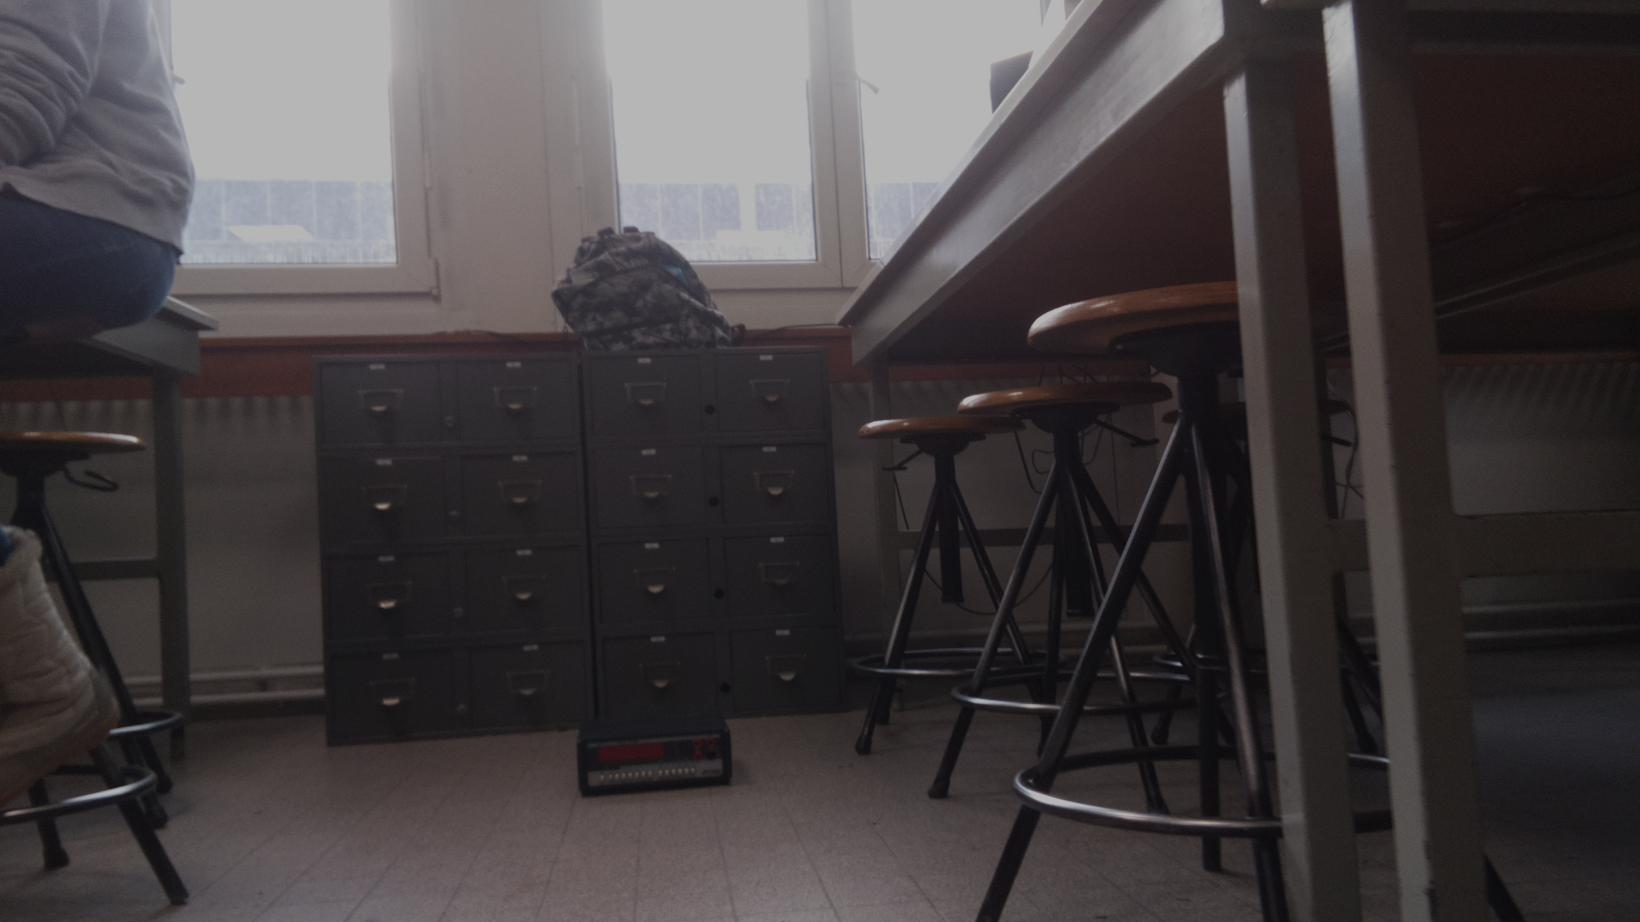big: (556, 229, 729, 350)
medium: (577, 715, 734, 789)
